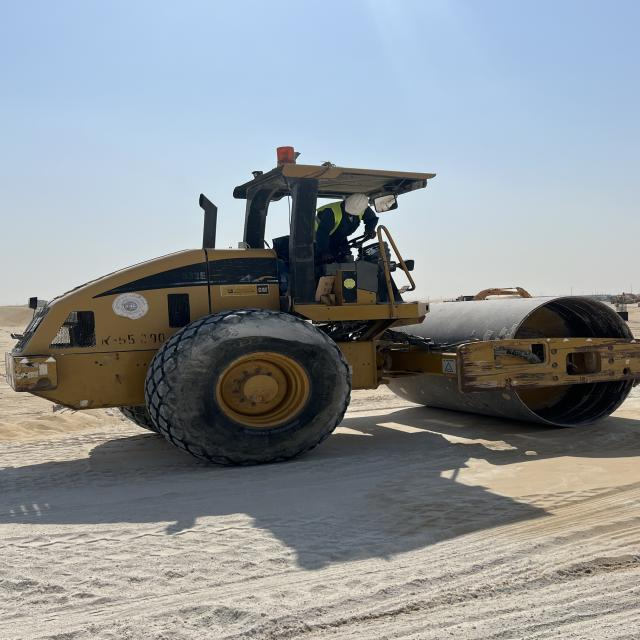Roller: (4, 143, 635, 470)
